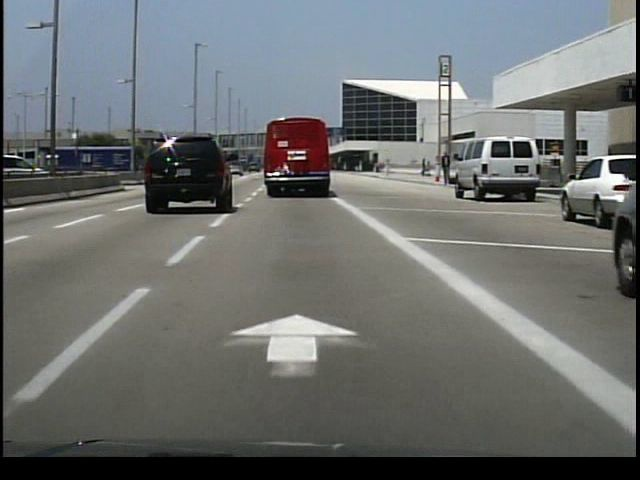person: (438, 151, 453, 191)
